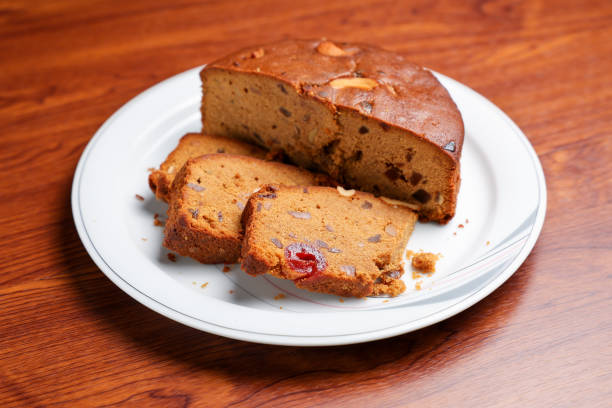Cake: (141, 27, 470, 298)
